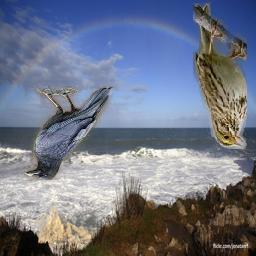Crow: (24, 86, 114, 180)
Sparrow: (193, 1, 247, 149)
